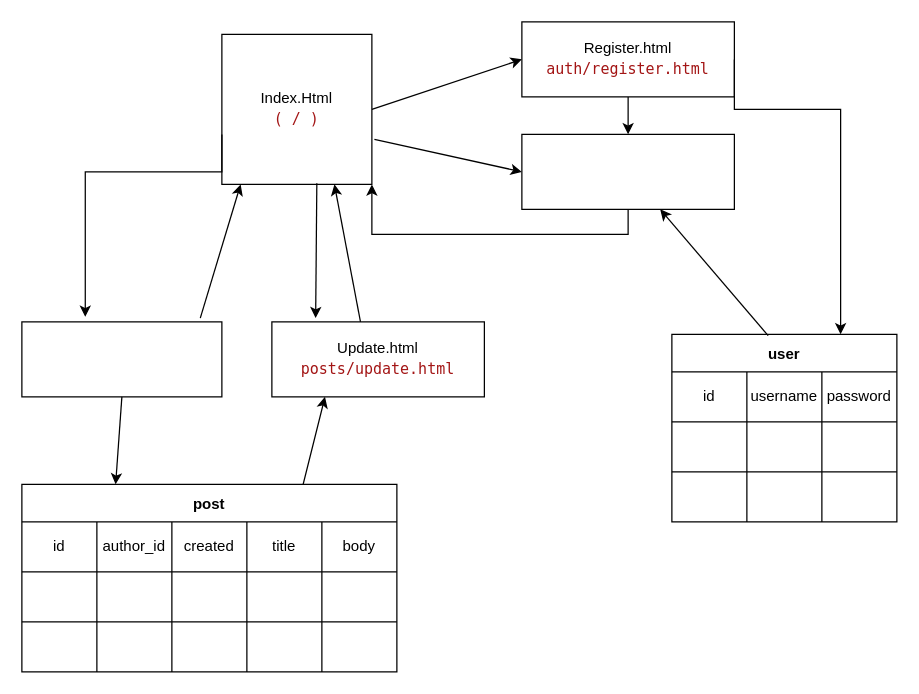
Image size: 919x694. Some labels were removed from this diagram. Each missing label, with the centre of its shape:
Create.html posts/create.html: point 121,359
Login.html auth/login.html: point 627,171
